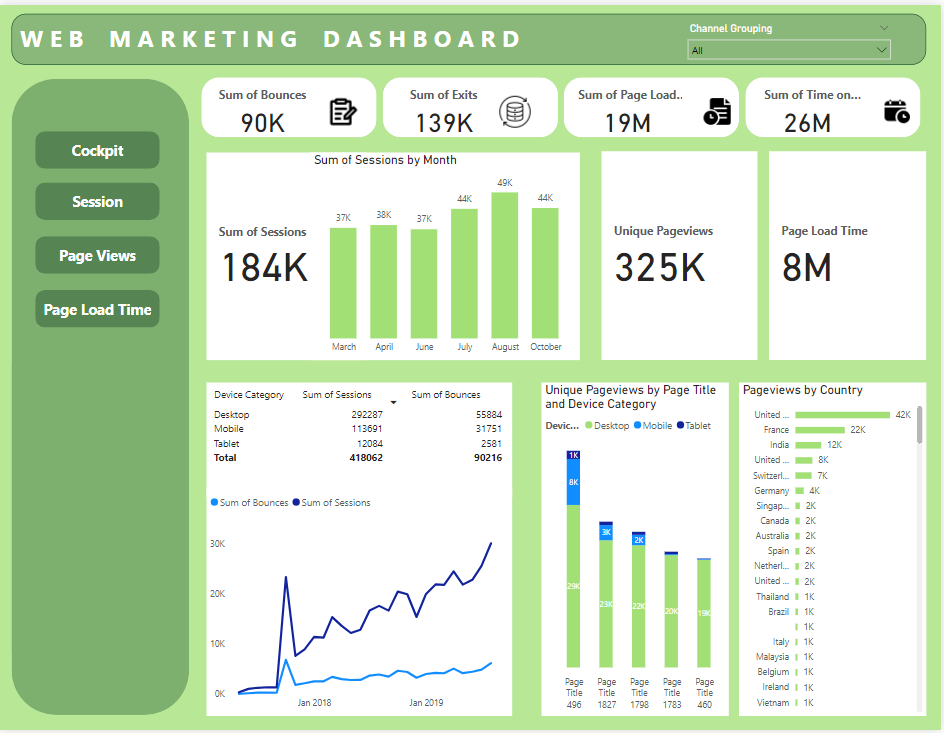

What the dashboard file says about the page in this screenshot:
{"tool":"powerbi","page":{"name":"Page 1","canvas":[1300,1000],"ordinal":0},"visuals":[{"type":"textbox","box":[16.7,11.7,1261.7,70],"z":0},{"type":"shape","box":[17.5,102.5,245,877.5],"z":1000},{"type":"actionButton","box":[49.7,174,171.7,51.7],"z":2000},{"type":"actionButton","box":[49.7,245.7,171.7,51.7],"z":3000},{"type":"actionButton","box":[49.7,319,171.7,51.7],"z":4000},{"type":"actionButton","box":[49.7,392.3,171.7,51.7],"z":5000},{"type":"cardVisual","fields":{"Data":["Sum(Web Marketing_Migrated Data (2).Bounces)","Sum(Web Marketing_Migrated Data (2).Exits)","Sum(Web Marketing_Migrated Data (2).Page Load Time)","Sum(Web Marketing_Migrated Data (2).Time on Page)"]},"box":[273.3,95,1005,93.3],"z":6000},{"type":"cardVisual","fields":{"Data":["Sum(Web Marketing_Migrated Data (2).Sessions)"]},"box":[286.7,203.3,220,286.7],"z":7000},{"type":"pivotTable","fields":{"Rows":["Web Marketing_Migrated Data (2).Device Category"],"Values":["Sum(Web Marketing_Migrated Data (2).Sessions)","Sum(Web Marketing_Migrated Data (2).Bounces)"]},"box":[286.7,520,421.7,158.3],"z":8000},{"type":"cardVisual","fields":{"Data":["Sum(Web Marketing_Migrated Data (2).Page Load Time)"]},"box":[1061.7,201.7,216.7,288.3],"z":9000},{"type":"cardVisual","fields":{"Data":["Sum(Web Marketing_Migrated Data (2).Unique Pageviews)"]},"box":[831.7,201.7,215,288.3],"z":10000},{"type":"columnChart","fields":{"Y":["Sum(Web Marketing_Migrated Data (2).Sessions)"],"Category":["Web Marketing_Migrated Data (2).Date.Variation.Date Hierarchy.Month"]},"box":[430,203.3,371.7,286.7],"z":11000},{"type":"lineChart","fields":{"Category":["Web Marketing_Migrated Data (2).Date.Variation.Date Hierarchy.Year","Web Marketing_Migrated Data (2).Date.Variation.Date Hierarchy.Month"],"Y":["Sum(Web Marketing_Migrated Data (2).Bounces)","Sum(Web Marketing_Migrated Data (2).Sessions)"]},"box":[286.7,665,421.7,315],"z":12000},{"type":"columnChart","title":"Unique Pageviews by Page Title and Device Category","fields":{"Y":["Sum(Web Marketing_Migrated Data (2).Unique Pageviews)"],"Category":["Web Marketing_Migrated Data (2).Page Title"],"Series":["Web Marketing_Migrated Data (2).Device Category"]},"box":[748.3,520,258.3,460],"z":13000},{"type":"clusteredBarChart","title":"Pageviews by Country","fields":{"Category":["Web Marketing_Migrated Data (2).Country"],"Y":["Sum(Web Marketing_Migrated Data (2).Unique Pageviews)"]},"box":[1020,520,258.3,460],"z":14000},{"type":"slicer","fields":{"Values":["Web Marketing_Migrated Data (2).Channel Grouping"]},"box":[940,18.3,300,58.3],"z":15000}]}

Visuals, with their boxes in screenshot pixels (x1, y1, x2, y2), scaled from the page's 1300x1000 canvas onto the 944x733 screenshot:
textbox: bbox=(12, 9, 928, 60)
shape: bbox=(13, 75, 191, 718)
actionButton: bbox=(36, 128, 161, 165)
actionButton: bbox=(36, 180, 161, 218)
actionButton: bbox=(36, 234, 161, 272)
actionButton: bbox=(36, 288, 161, 325)
cardVisual - Sum(Web Marketing_Migrated Data (2).Bounces) x Sum(Web Marketing_Migrated Data (2).Exits): bbox=(198, 70, 928, 138)
cardVisual - Sum(Web Marketing_Migrated Data (2).Sessions): bbox=(208, 149, 368, 359)
pivotTable - Web Marketing_Migrated Data (2).Device Category x Sum(Web Marketing_Migrated Data (2).Sessions): bbox=(208, 381, 514, 497)
cardVisual - Sum(Web Marketing_Migrated Data (2).Page Load Time): bbox=(771, 148, 928, 359)
cardVisual - Sum(Web Marketing_Migrated Data (2).Unique Pageviews): bbox=(604, 148, 760, 359)
columnChart - Sum(Web Marketing_Migrated Data (2).Sessions) x Web Marketing_Migrated Data (2).Date.Variation.Date Hierarchy.Month: bbox=(312, 149, 582, 359)
lineChart - Web Marketing_Migrated Data (2).Date.Variation.Date Hierarchy.Year x Web Marketing_Migrated Data (2).Date.Variation.Date Hierarchy.Month: bbox=(208, 487, 514, 718)
"Unique Pageviews by Page Title and Device Category" columnChart: bbox=(543, 381, 731, 718)
"Pageviews by Country" clusteredBarChart: bbox=(741, 381, 928, 718)
slicer - Web Marketing_Migrated Data (2).Channel Grouping: bbox=(683, 13, 900, 56)
